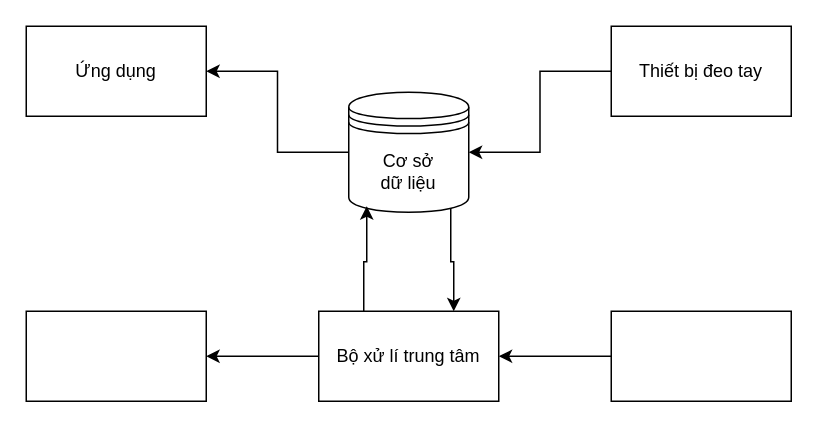
This 818x428 diagram has some shape labels left out. Here are the shapes that lost their labels. From the top down, the centre of each, then its label:
[115,355]: Module SIM
[700,355]: Camera
